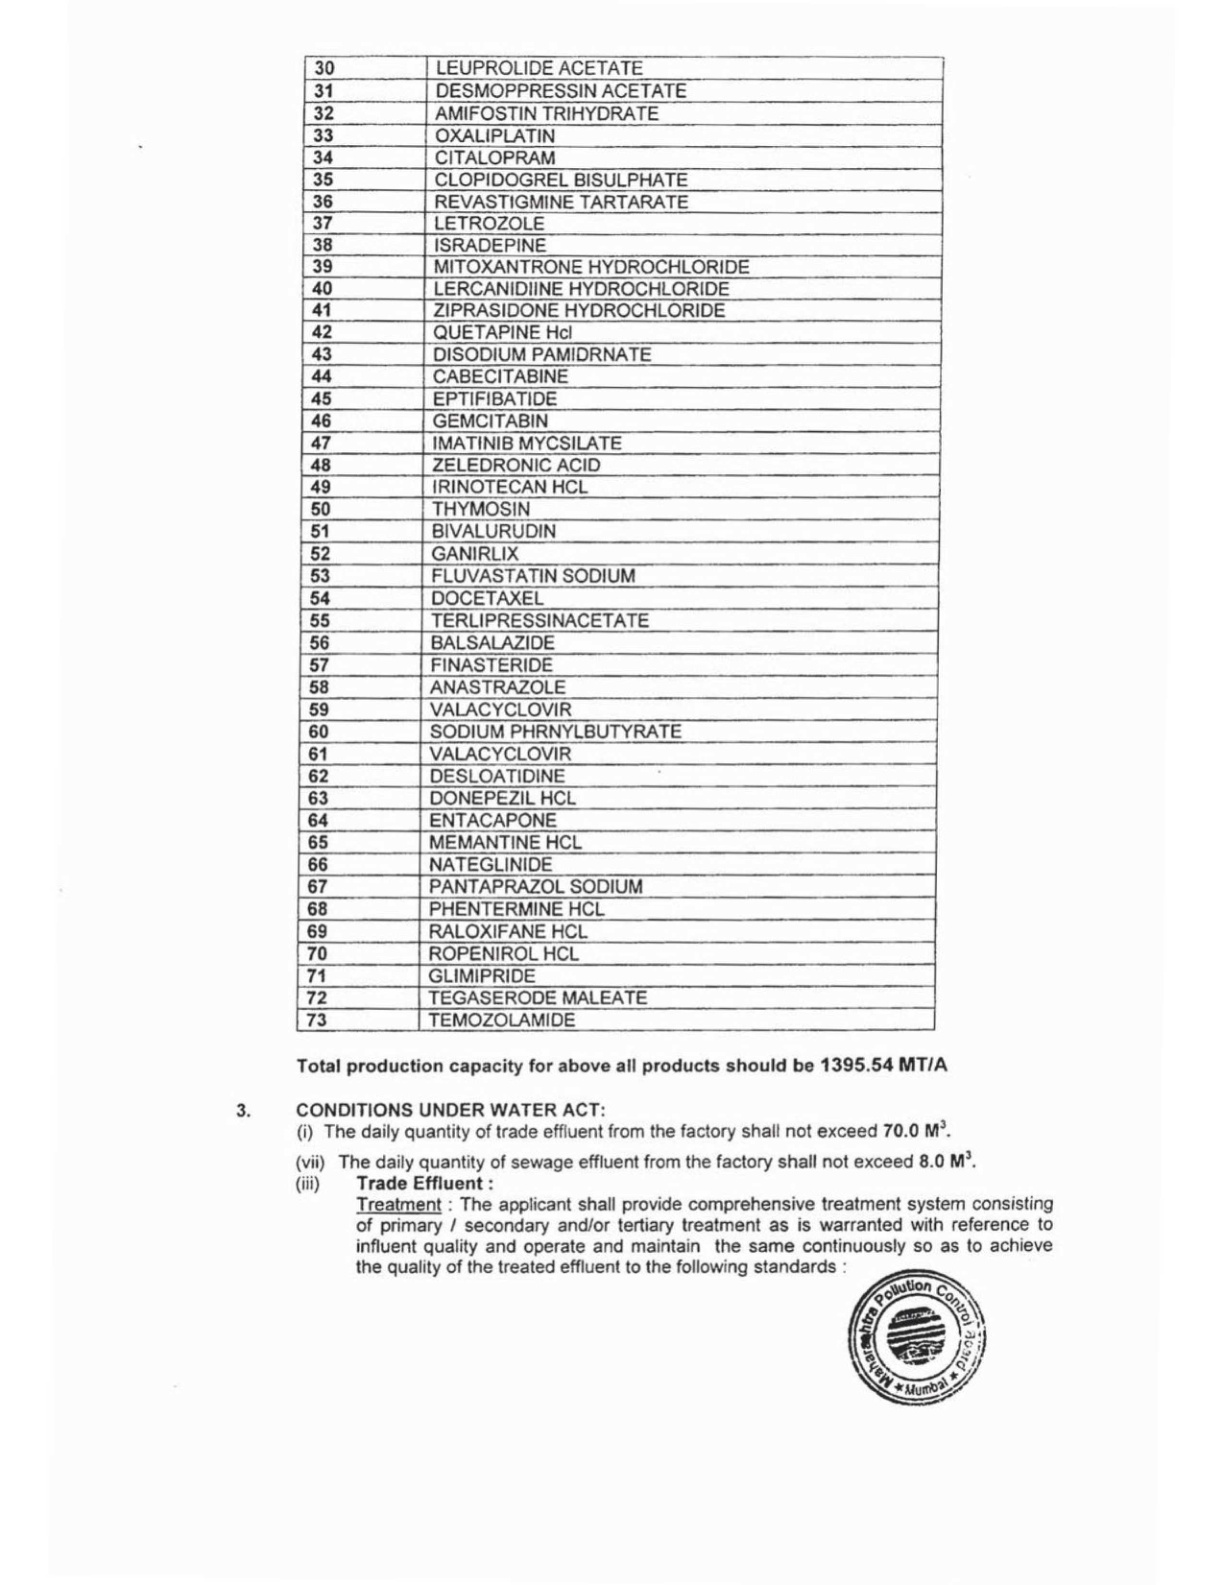full_lined: (296, 55, 945, 1034)
